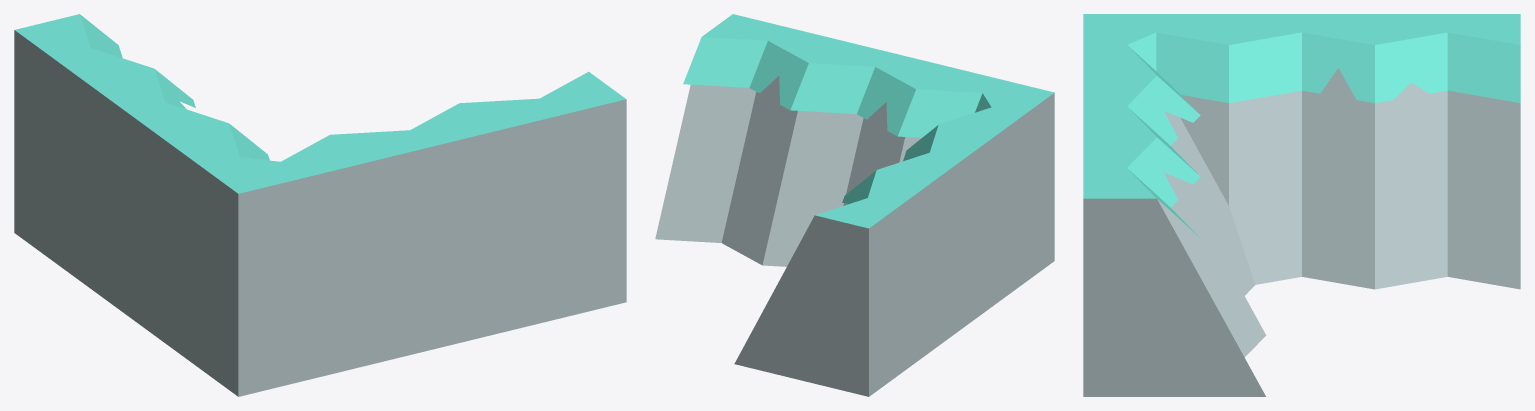
File: cliff_halfCornerInner_stone.glb
3 views of the same model, side by side, from view 1: azimuth 30°, elevation 25°; view 2: azimuth 150°, elevation 25°; view 3: azimuth 270°, elevation 25° (orthographic). The views are drawn at different scales.
Parts seen in each view (by area): view 1: cliff_halfCornerInner_stone; view 2: cliff_halfCornerInner_stone; view 3: cliff_halfCornerInner_stone.
Part boxes in pixels (x1=…): cliff_halfCornerInner_stone: x1=14, y1=14, x2=626, y2=396; cliff_halfCornerInner_stone: x1=655, y1=14, x2=1054, y2=396; cliff_halfCornerInner_stone: x1=1083, y1=14, x2=1520, y2=396.
Size of the model in its own units: 1 by 0.5 by 1.
